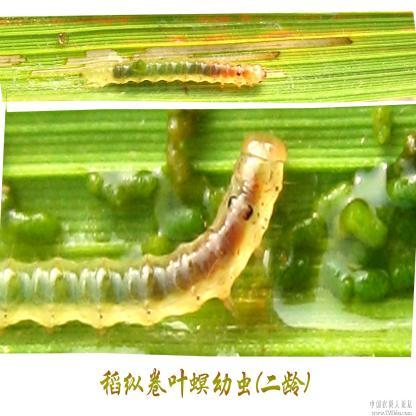leaf-folder: (0, 127, 289, 338), (77, 45, 273, 103)
